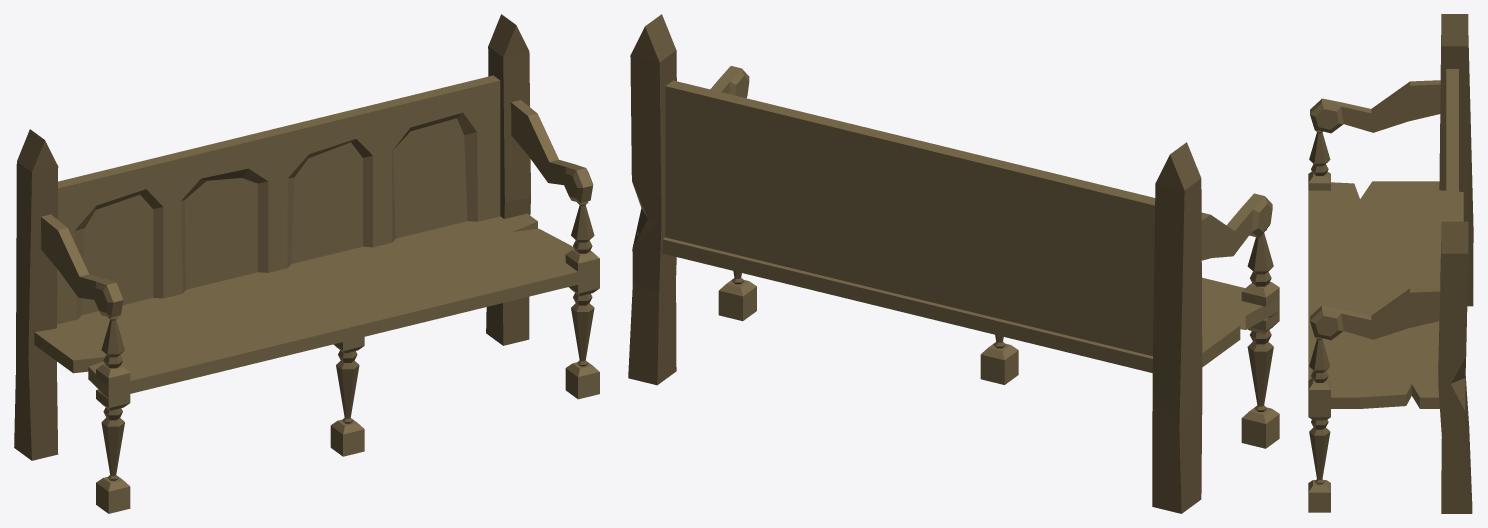
File: Bench_3.fbx
The picture shows the model from 3 angles, left to right: view 1: azimuth 30°, elevation 25°; view 2: azimuth 150°, elevation 25°; view 3: azimuth 270°, elevation 25°; orthographic projection. The views are drawn at different scales.
Parts seen in each view (by area): view 1: Bench_3; view 2: Bench_3; view 3: Bench_3.
Boxes of the visible parts, x1,y1,x2,y2 form: Bench_3: (14,14,599,513); Bench_3: (628,14,1279,513); Bench_3: (1308,14,1473,513).
Bounding box in the file's own units: 192 × 116 × 60.73.
